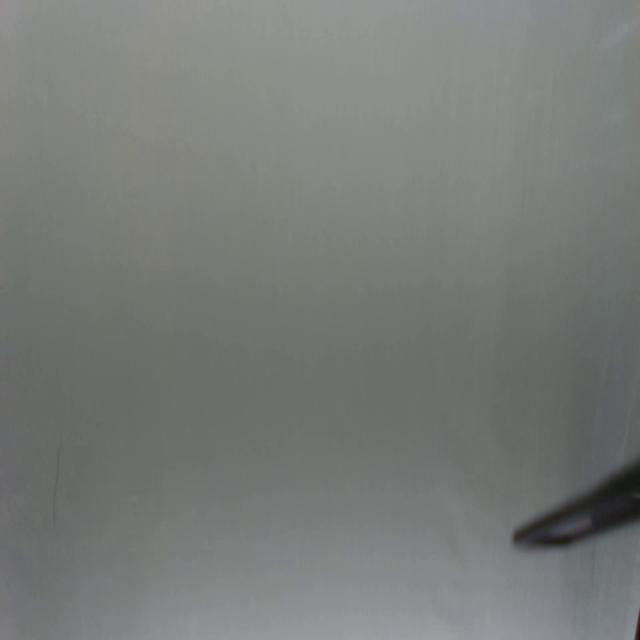crease: (51, 425, 66, 531)
